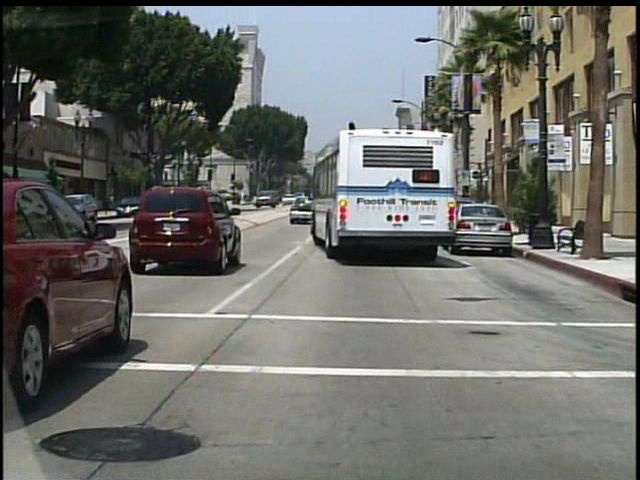person: (465, 185, 477, 227)
